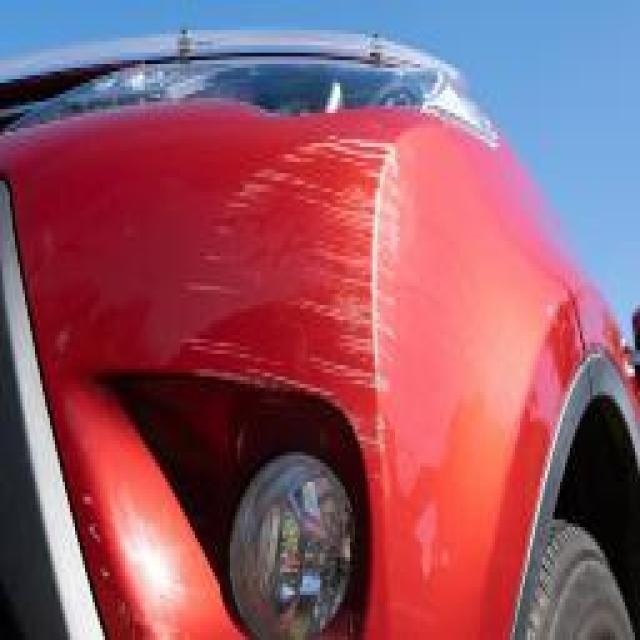Bumper: (155, 111, 420, 490)
